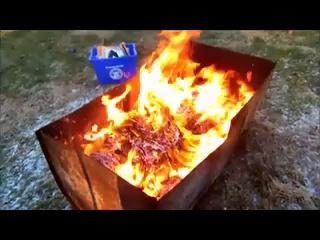fire: (100, 32, 258, 201)
